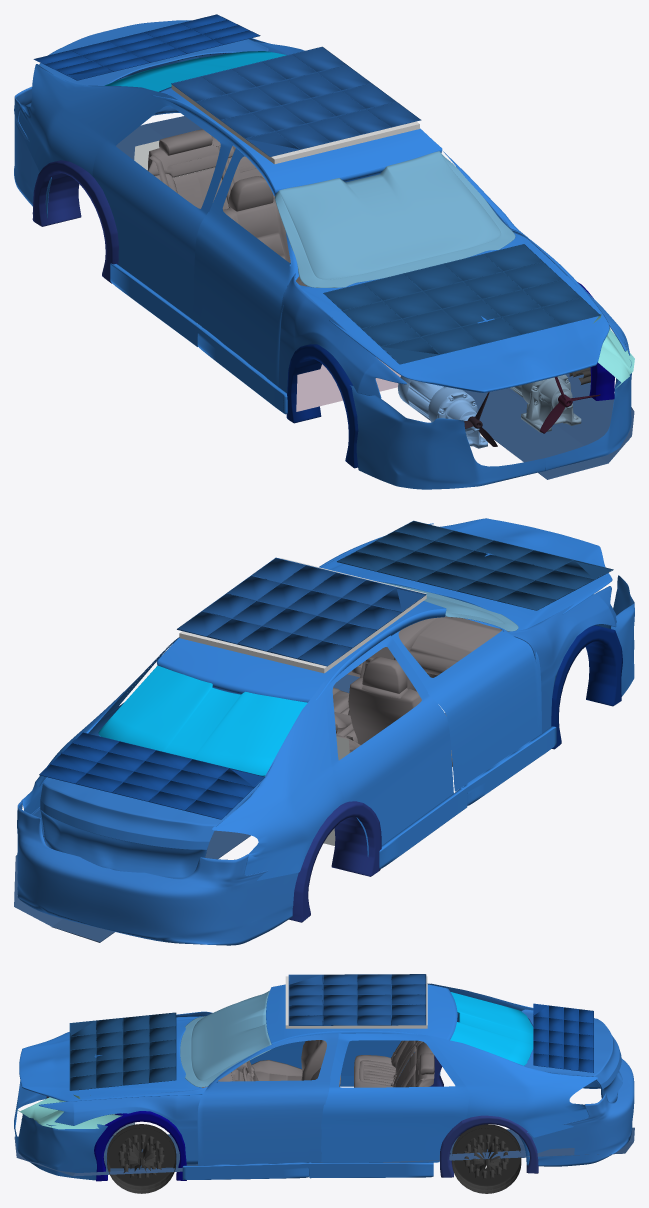
File: UPR.glb
3 views of the same model, one above another, from view 1: azimuth 30°, elevation 25°; view 2: azimuth 150°, elevation 25°; view 3: azimuth 270°, elevation 25° (orthographic). The views are drawn at different scales.
Visible parts, largest first — view 1: car1 - Copy.007, car1 - Copy.014, uploads_files_3682662_Format, car1 - Copy.015, uploads_files_3682662_Format.002, car1 - Copy.003, car1 - Copy.001, Plane.001, uploads_files_252738_3d-model.stl, car1 - Copy.008, uploads_files_3682662_Format.001, car1 - Copy.020 (+11 smaller); view 2: car1 - Copy.014, car1 - Copy.011, car1 - Copy.015, uploads_files_3682662_Format.002, car1 - Copy.013, uploads_files_3682662_Format, car1 - Copy.012, uploads_files_3682662_Format.001, uploads_files_252738_3d-model.stl, car1 - Copy.008, car1 - Copy.001, car1 - Copy.017 (+7 smaller); view 3: car1 - Copy.009, car1 - Copy.006, uploads_files_3682662_Format, uploads_files_3682662_Format.002, car1 - Copy.007, uploads_files_252738_3d-model.stl, car1 - Copy.011, car1 - Copy.001, car1 - Copy.003, car1 - Copy.013, car1 - Copy.004, uploads_files_3682662_Format.001 (+11 smaller).
Boxes of the visible parts, <box> form: car1 - Copy.007: <box>275,151,515,287</box>; car1 - Copy.014: <box>18,64,233,320</box>; uploads_files_3682662_Format: <box>323,244,600,364</box>; car1 - Copy.015: <box>110,148,298,414</box>; uploads_files_3682662_Format.002: <box>171,46,421,156</box>; car1 - Copy.003: <box>350,327,631,489</box>; car1 - Copy.001: <box>295,233,609,392</box>; Plane.001: <box>116,116,634,479</box>; uploads_files_252738_3d-model.stl: <box>147,129,308,286</box>; car1 - Copy.008: <box>152,86,442,196</box>; uploads_files_3682662_Format.001: <box>33,14,260,80</box>; car1 - Copy.020: <box>278,273,406,398</box>; car1 - Copy.014: <box>212,635,453,880</box>; car1 - Copy.011: <box>17,799,298,945</box>; car1 - Copy.015: <box>379,616,556,868</box>; uploads_files_3682662_Format.002: <box>177,557,426,666</box>; car1 - Copy.013: <box>98,665,307,776</box>; uploads_files_3682662_Format: <box>337,520,613,610</box>; car1 - Copy.012: <box>40,777,262,878</box>; uploads_files_3682662_Format.001: <box>39,732,264,819</box>; uploads_files_252738_3d-model.stl: <box>332,616,508,766</box>; car1 - Copy.008: <box>156,601,446,702</box>; car1 - Copy.001: <box>319,518,612,630</box>; car1 - Copy.017: <box>289,801,381,922</box>; car1 - Copy.009: <box>321,1033,597,1162</box>; car1 - Copy.006: <box>182,1033,433,1179</box>; uploads_files_3682662_Format: <box>69,1012,176,1090</box>; uploads_files_3682662_Format.002: <box>288,974,426,1025</box>; car1 - Copy.007: <box>180,990,271,1087</box>; uploads_files_252738_3d-model.stl: <box>201,1040,434,1087</box>; car1 - Copy.011: <box>519,1058,634,1166</box>; car1 - Copy.001: <box>19,1016,203,1101</box>; car1 - Copy.003: <box>14,1081,107,1180</box>; car1 - Copy.013: <box>450,992,533,1065</box>; car1 - Copy.004: <box>39,1087,207,1164</box>; uploads_files_3682662_Format.001: <box>533,1003,593,1072</box>.
Size of the model in its own units: 4.62 by 3.53 by 13.35.
